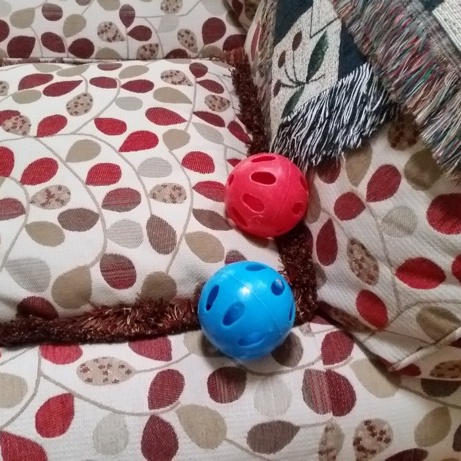blueball: (193, 255, 301, 363)
redball: (218, 147, 314, 241)
